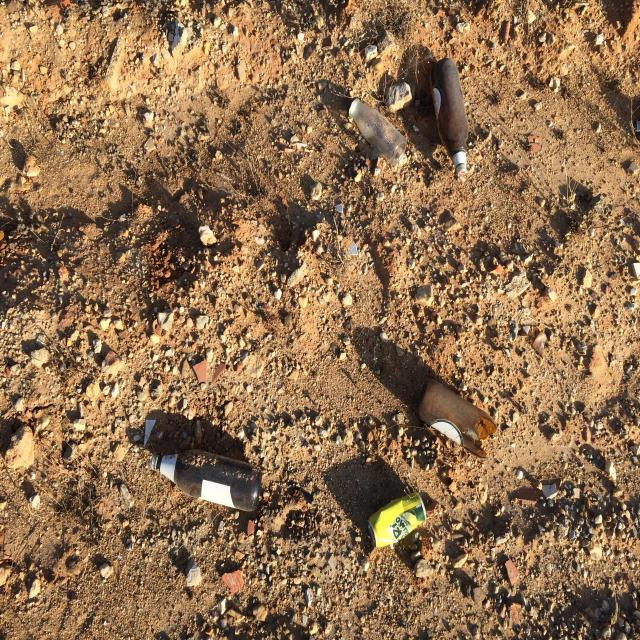litter: (151, 449, 263, 511), (415, 378, 497, 458), (429, 57, 469, 178), (347, 96, 407, 167), (367, 492, 426, 547), (144, 419, 156, 447), (347, 96, 357, 115), (455, 165, 467, 178), (150, 453, 157, 470), (368, 527, 374, 537)
